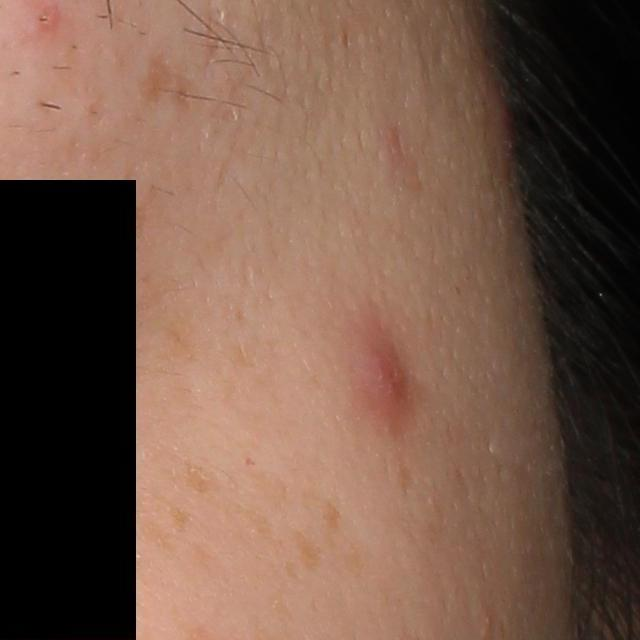melasma: (222, 500, 288, 560), (247, 468, 297, 524), (153, 488, 197, 536), (127, 516, 175, 558), (178, 457, 222, 499), (288, 523, 323, 574), (322, 496, 342, 548)
papule: (351, 331, 414, 431), (33, 0, 61, 35)
